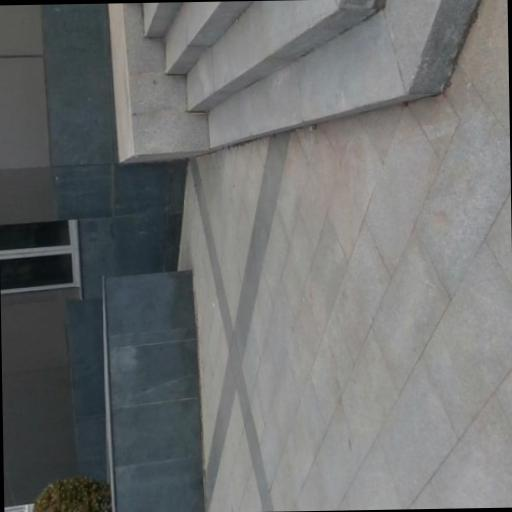stairs: (144, 0, 480, 149)
